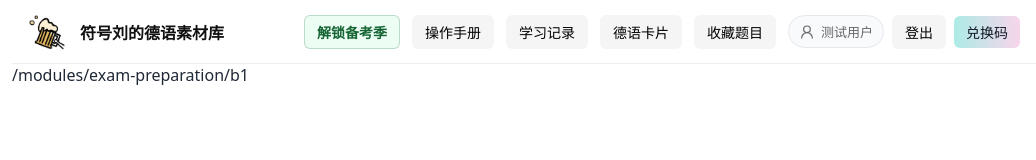
Test: exam preparation scoped navigation › keeps b1 level when opening favorites
Click the button "收藏题目": (735, 32) [694,14,776,48]
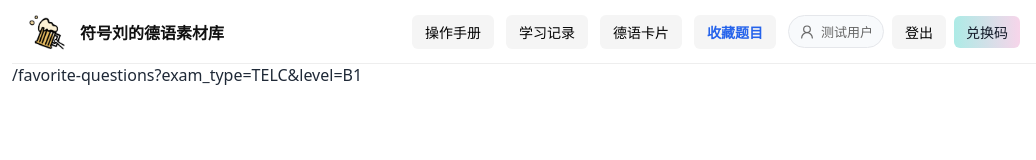
Result: the text with test id "location" reads "/favorite-questions?exam_type=TELC&level=B1" at [12,64,362,86]
